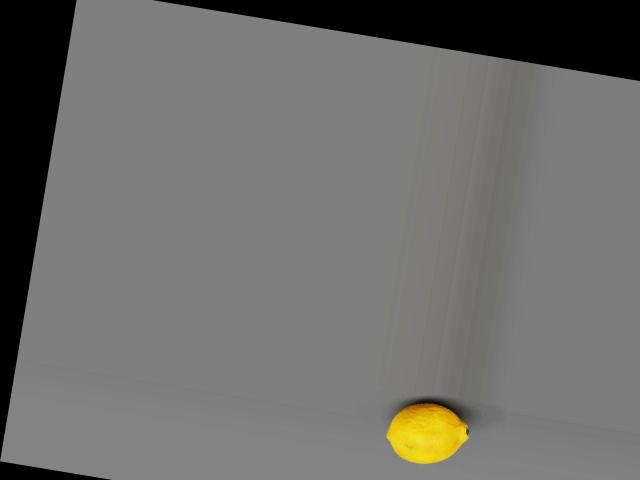lemon: (380, 398, 473, 474)
